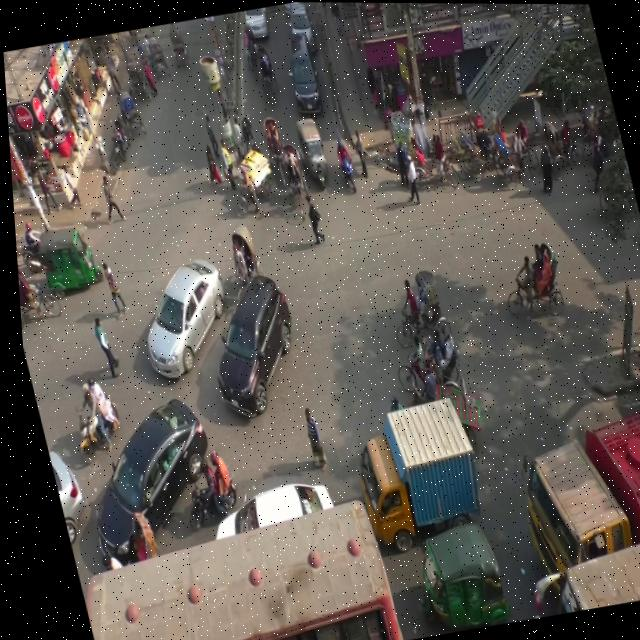cng: (394, 511, 509, 636), (18, 219, 107, 307), (290, 109, 339, 193)
rikshaw: (488, 225, 581, 333), (377, 259, 449, 352), (400, 113, 467, 206), (487, 121, 546, 197), (532, 102, 588, 179), (274, 145, 318, 220), (103, 82, 148, 155), (160, 19, 202, 85), (256, 109, 292, 176), (248, 36, 282, 100), (138, 28, 175, 84)
